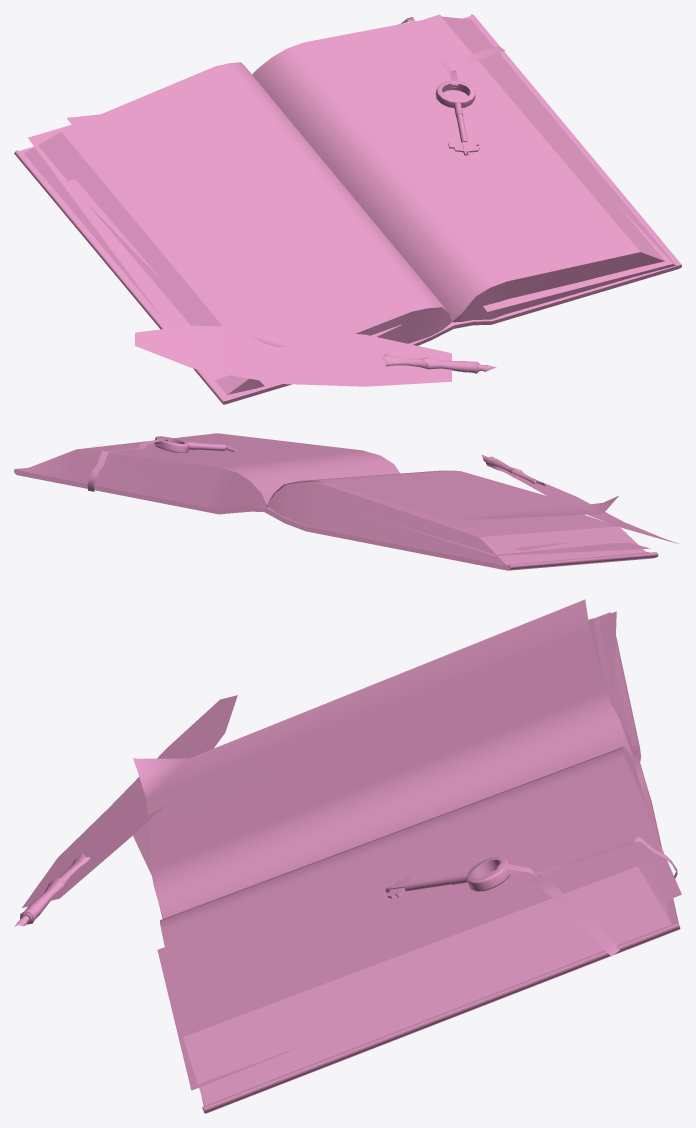
Rendered from open_Book.fbx.
The picture shows the model from 3 angles, top to bottom: view 1: azimuth 30°, elevation 25°; view 2: azimuth 150°, elevation 25°; view 3: azimuth 270°, elevation 25°; orthographic projection. The views are drawn at different scales.
Visible parts, largest first — view 1: Book_sheets, Loose_sheet_03, Quill_Feather, Book_frame, Loose_sheet_02, Loose_Sheet_04, Quill_Body, Lloose_sheet_01, Key_circle, Plane2; view 2: Book_sheets, Loose_sheet_03, Book_frame, Quill_Feather, Loose_sheet_02, Plane2, Key_circle, Quill_Body, Key_stick; view 3: Book_sheets, Loose_sheet_03, Quill_Feather, Book_frame, Loose_Sheet_04, Plane1, Key_circle, Plane2, Quill_Body, Loose_sheet_02.
Part boxes in pixels (x1,y1,x2,y2): Book_sheets: [24, 16, 676, 394]; Loose_sheet_03: [67, 62, 450, 346]; Quill_Feather: [135, 325, 451, 386]; Book_frame: [14, 14, 681, 404]; Loose_sheet_02: [28, 124, 229, 381]; Loose_Sheet_04: [424, 14, 672, 311]; Quill_Body: [381, 354, 479, 373]; Lloose_sheet_01: [67, 179, 401, 387]; Key_circle: [435, 81, 475, 108]; Plane2: [398, 17, 458, 87]; Book_sheets: [22, 433, 646, 564]; Loose_sheet_03: [266, 470, 618, 519]; Book_frame: [14, 468, 658, 570]; Quill_Feather: [492, 465, 678, 543]; Loose_sheet_02: [360, 514, 650, 555]; Plane2: [87, 438, 167, 491]; Key_circle: [154, 436, 189, 452]; Quill_Body: [486, 456, 545, 486]; Key_stick: [186, 442, 225, 451]; Book_sheets: [144, 618, 671, 1105]; Loose_sheet_03: [133, 599, 633, 918]; Quill_Feather: [22, 695, 237, 907]; Book_frame: [201, 612, 680, 1113]; Loose_Sheet_04: [157, 797, 681, 1090]; Plane1: [530, 874, 619, 956]; Key_circle: [466, 856, 510, 891]; Plane2: [495, 837, 677, 878]; Quill_Body: [20, 854, 89, 924]; Loose_sheet_02: [597, 611, 616, 695].
Size of the model in its own units: 6.34 by 1.88 by 5.13.
